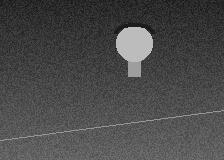no_helmet: (116, 23, 152, 66)
